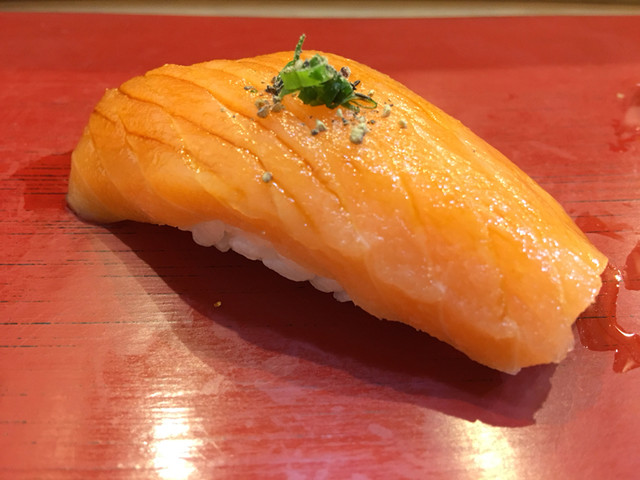salmon: (60, 35, 613, 391)
